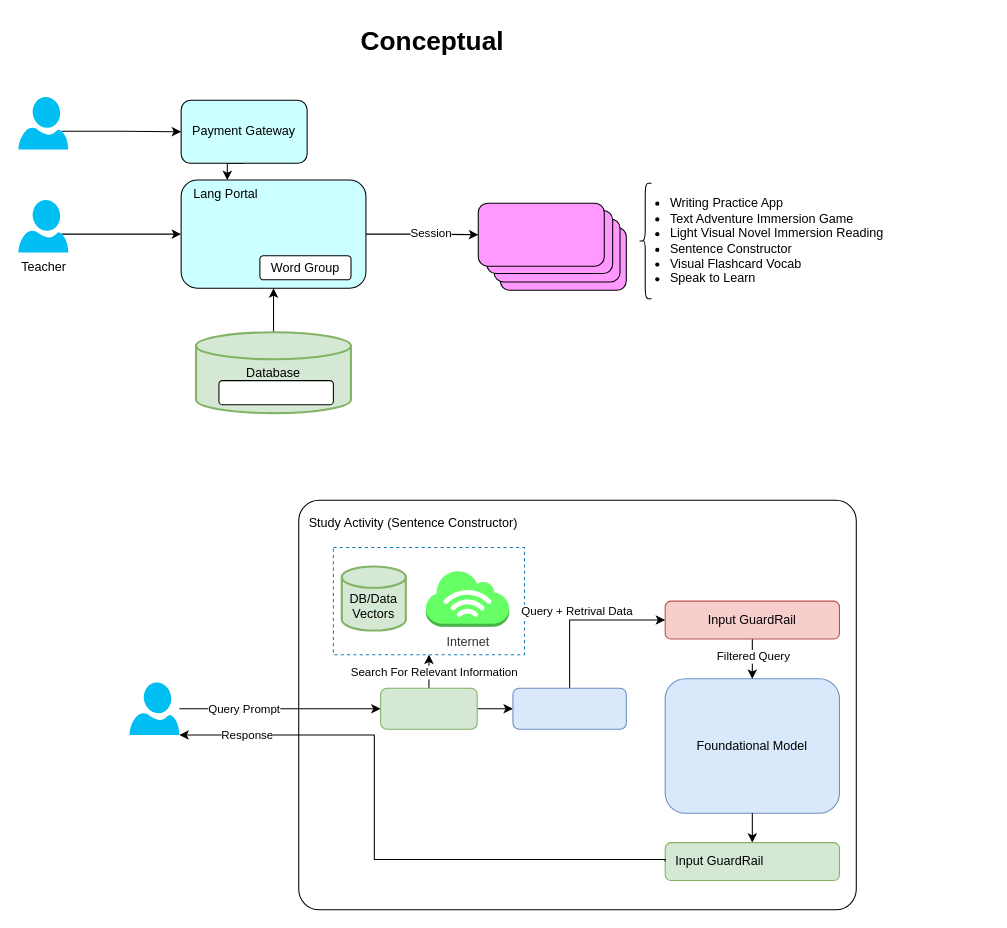
Image size: 1007x928. Some labels were removed from this diagram. The centre of each missing label's shape, as x and y in pixels:
"Core 2000 Words" belongs at pixel 275 392.
"Prompt Cache" belongs at pixel 569 708.
"RAG" belongs at pixel 428 708.
"Student" belongs at pixel 43 123.
"Study Activities" belongs at pixel 540 234.
"User" belongs at pixel 154 708.
